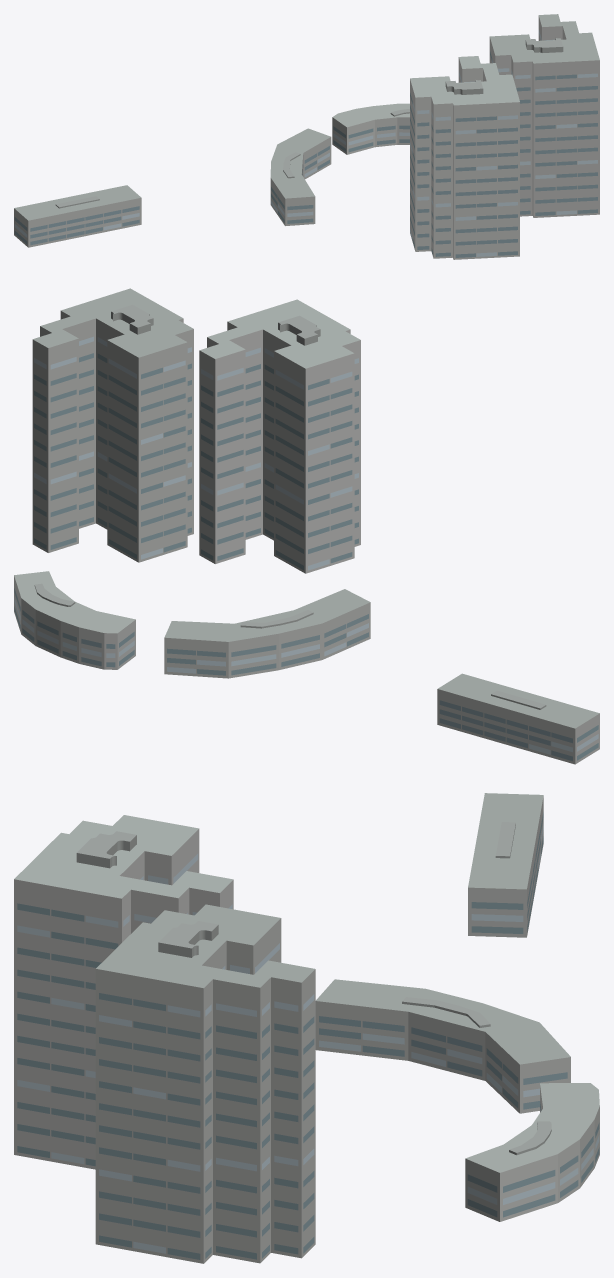
Rendered from apt-a14375301.glb.
3 views of the same model, one above another, from view 1: azimuth 30°, elevation 25°; view 2: azimuth 150°, elevation 25°; view 3: azimuth 270°, elevation 25° (orthographic). The views are drawn at different scales.
Visible parts, largest first — view 1: apt-a14375301; view 2: apt-a14375301; view 3: apt-a14375301.
Boxes of the visible parts, box(x1,y1,x2,y2) form: apt-a14375301: box(14, 14, 599, 259); apt-a14375301: box(14, 288, 599, 764); apt-a14375301: box(14, 793, 599, 1263).
Size of the model in its own units: 229 by 72 by 134.
